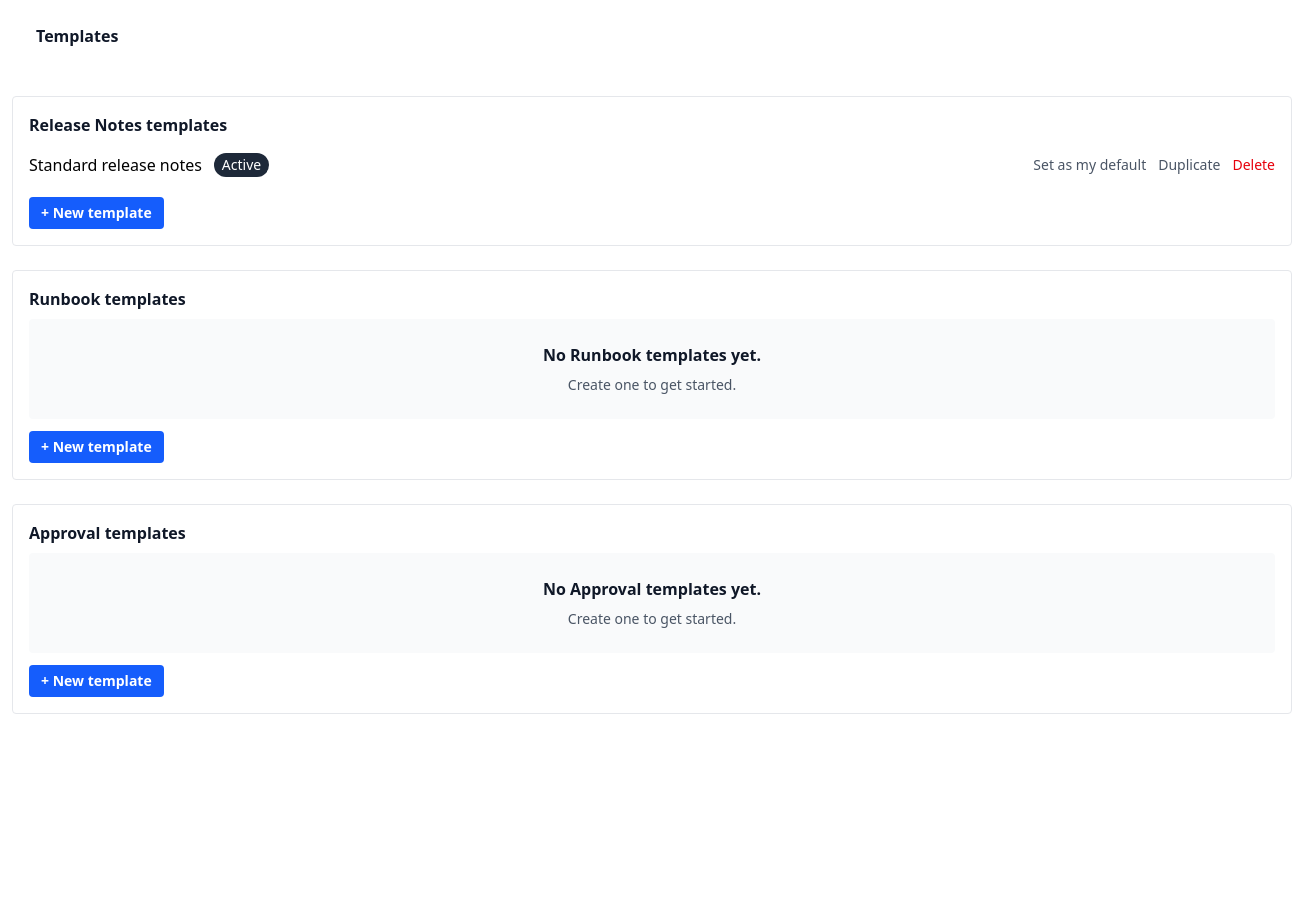
Test: TemplatesRoute › renders the action error when setting a default fails
What coordinates should you click on to do the following:
click the button "Set as my default"
I would click on:
 (1090, 165)
Its box is [1033,155,1146,175].
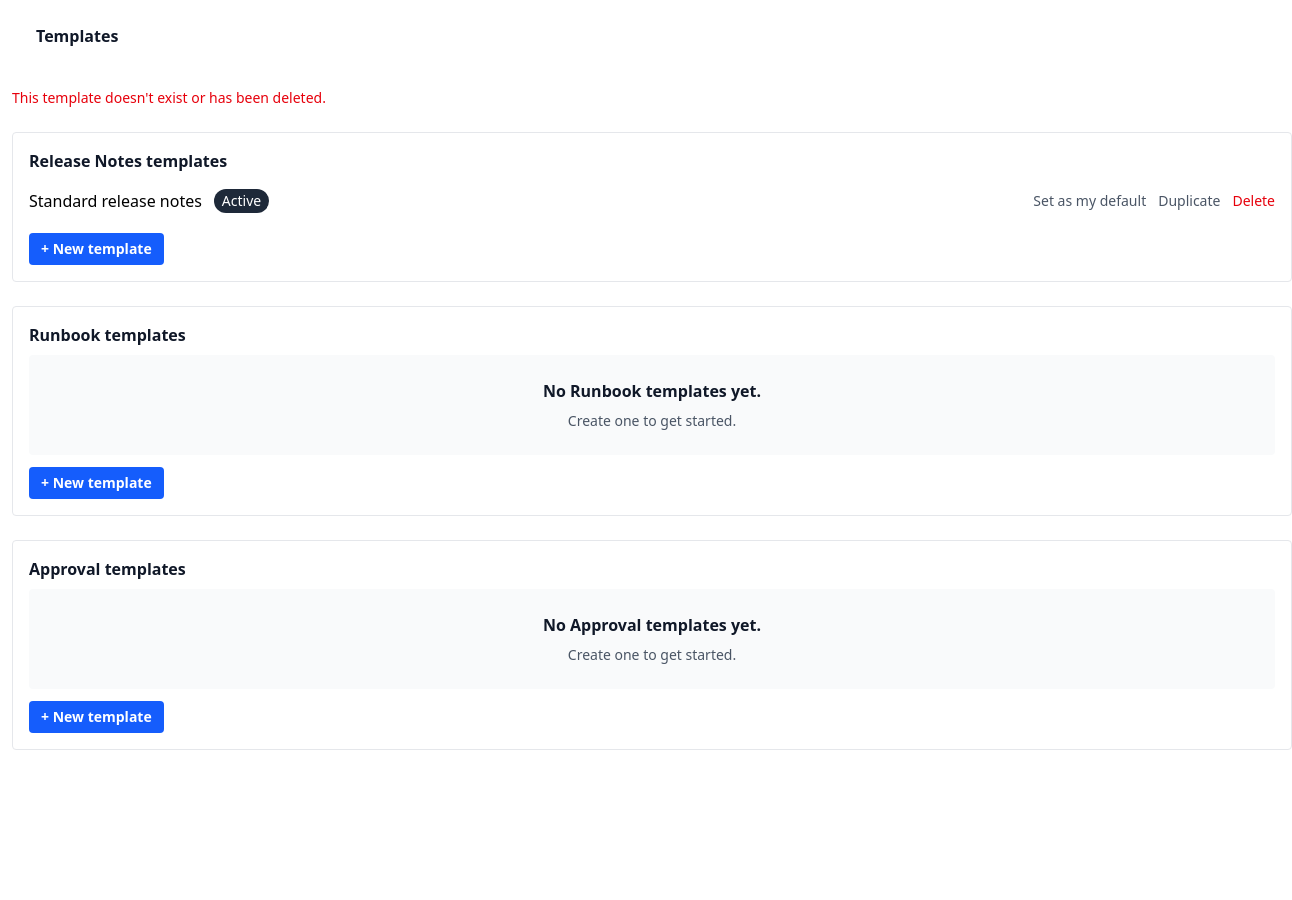
Check: the message "This template doesn't exist or has been deleted." is shown, box [12,88,326,107]
